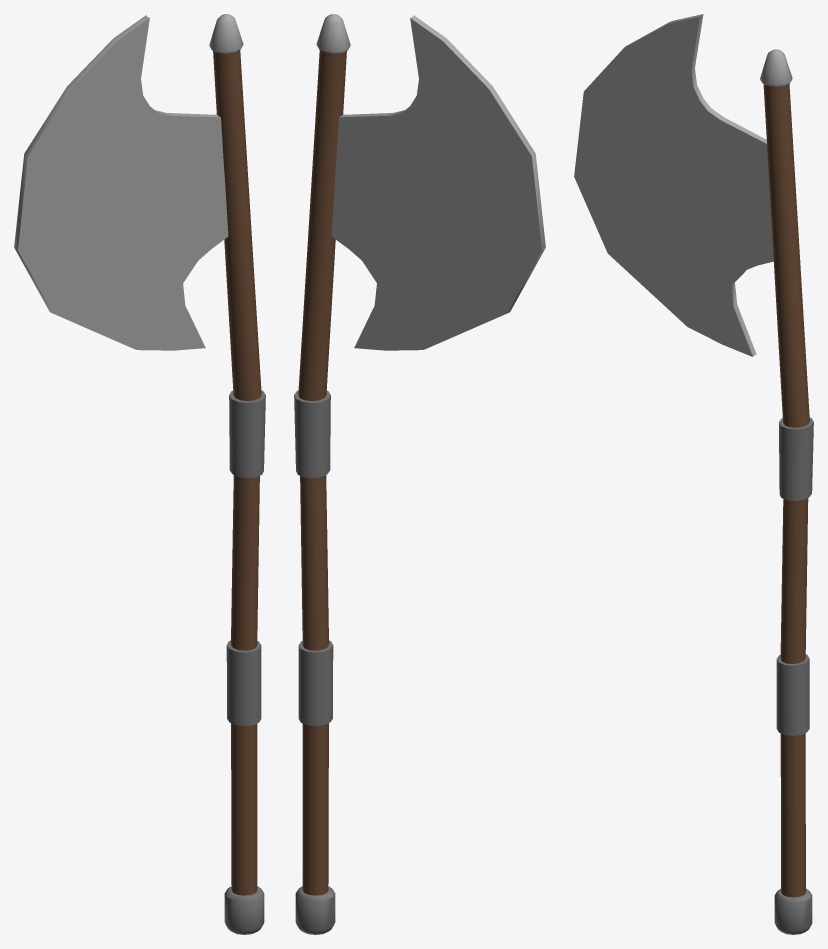
Rendered from Axe_1.fbx.
The picture shows the model from 3 angles, left to right: view 1: azimuth 30°, elevation 25°; view 2: azimuth 150°, elevation 25°; view 3: azimuth 330°, elevation 25°; orthographic projection. The views are drawn at different scales.
Parts seen in each view (by area): view 1: Axe_1; view 2: Axe_1; view 3: Axe_1.
Part boxes in pixels (bbox=[...]): Axe_1: bbox=[14, 14, 265, 934]; Axe_1: bbox=[294, 14, 545, 934]; Axe_1: bbox=[574, 14, 813, 934].
Size of the model in its own units: 0.118 by 0.4253 by 0.0162.
